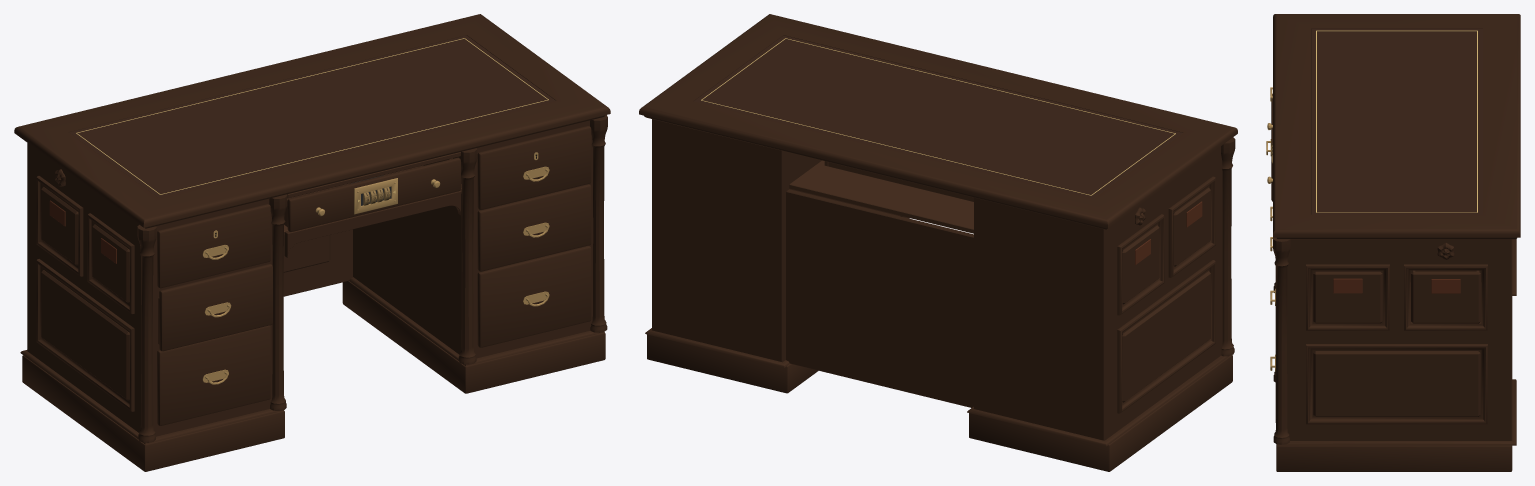
The model's file is desk.glb.
3 views of the same model, side by side, from view 1: azimuth 30°, elevation 25°; view 2: azimuth 150°, elevation 25°; view 3: azimuth 270°, elevation 25° (orthographic). The views are drawn at different scales.
Parts seen in each view (by area): view 1: desk_body, IA_drawer_top; view 2: desk_body, IA_drawer_top; view 3: desk_body, IA_compartment, IA_secret_panel.
Boxes of the visible parts, box(x1,y1,x2,y2) form: desk_body: box(14, 14, 610, 471); IA_drawer_top: box(284, 157, 460, 231); desk_body: box(639, 14, 1237, 471); IA_drawer_top: box(824, 161, 973, 201); desk_body: box(1266, 14, 1520, 471); IA_compartment: box(1411, 270, 1480, 323); IA_secret_panel: box(1431, 279, 1460, 293).
Bounding box in the file's own units: 1.5 × 0.78 × 0.7403.
9 materials, 1 textured.
